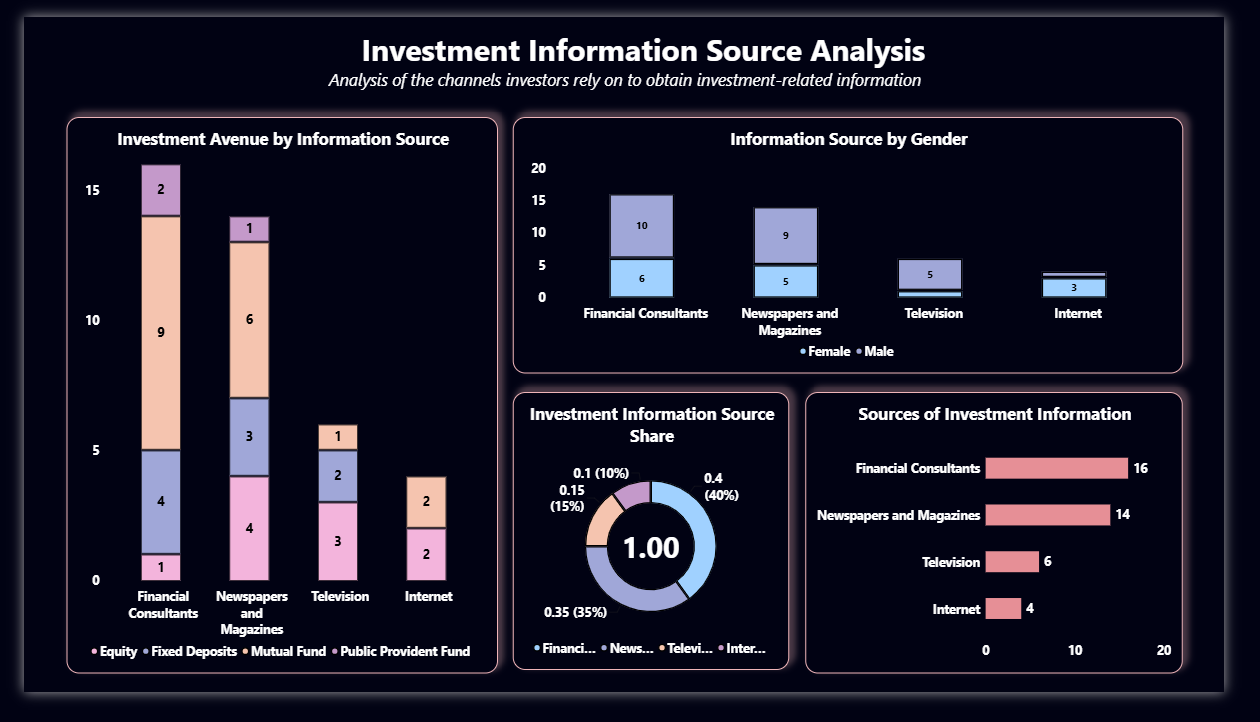

The page's visual inventory and layout, read from the dashboard file:
{"tool":"powerbi","page":{"name":"Source of Information","canvas":[1920,1080],"ordinal":5},"visuals":[{"type":"textbox","box":[128,18,1726,66],"z":0},{"type":"clusteredBarChart","title":"Sources of Investment Information","fields":{"Category":["Investments.Source"],"Y":["CountNonNull(Investments.Source)"]},"box":[1250,600,604,450],"z":2000},{"type":"columnChart","title":"Information Source by Gender","fields":{"Category":["Investments.Source"],"Y":["CountNonNull(Investments.Source)"],"Series":["Investments.gender"]},"box":[782.5,160,1072.5,410],"z":3000},{"type":"donutChart","title":"Investment Information Source Share","fields":{"Y":["All_Measures.Source %"],"Category":["Investments.Source"]},"box":[782.5,600,442.5,445],"z":4001},{"type":"columnChart","title":"Investment Avenue by Information Source","fields":{"Category":["Investments.Source"],"Y":["CountNonNull(Investments.Source)"],"Series":["Investments.Avenue"]},"box":[68,160,690,890],"z":4002},{"type":"textbox","box":[67.5,82.5,1787.5,55],"z":4003}]}

Visuals, with their boxes in screenshot pixels (x1, y1, x2, y2), scaled from the page's 1920x1080 canvas onto the 1260x722 screenshot:
textbox: {"left": 84, "top": 12, "right": 1217, "bottom": 56}
"Sources of Investment Information" clusteredBarChart: {"left": 820, "top": 401, "right": 1217, "bottom": 702}
"Information Source by Gender" columnChart: {"left": 514, "top": 107, "right": 1217, "bottom": 381}
"Investment Information Source Share" donutChart: {"left": 514, "top": 401, "right": 804, "bottom": 699}
"Investment Avenue by Information Source" columnChart: {"left": 45, "top": 107, "right": 497, "bottom": 702}
textbox: {"left": 44, "top": 55, "right": 1217, "bottom": 92}
